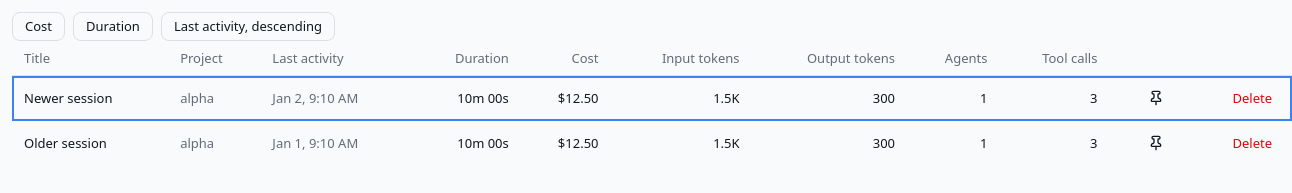
Test: Pinning grouping › returns an unpinned row to its position under the active sort (E3-S4-AC3)
Click the button named "Pin Older session".
click(1156, 143)  # box [1142,129,1170,157]
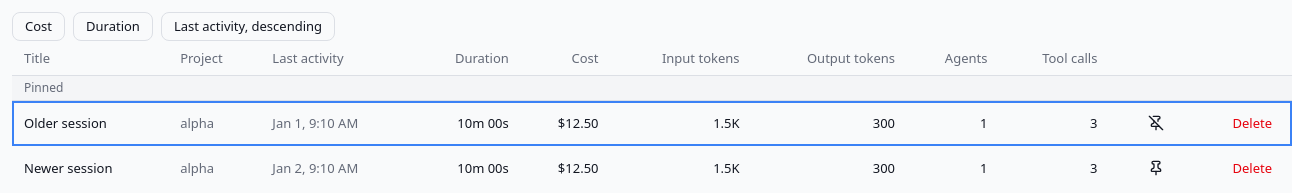
Click the button named "Unpin Older session".
click(1156, 123)  # box [1142,109,1170,137]
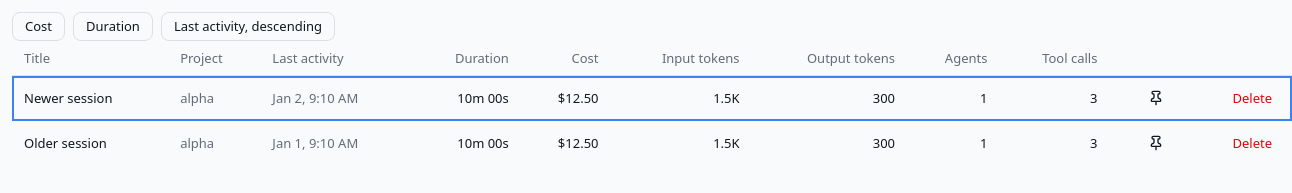
Expected: the column heading "Pinned" is gone
